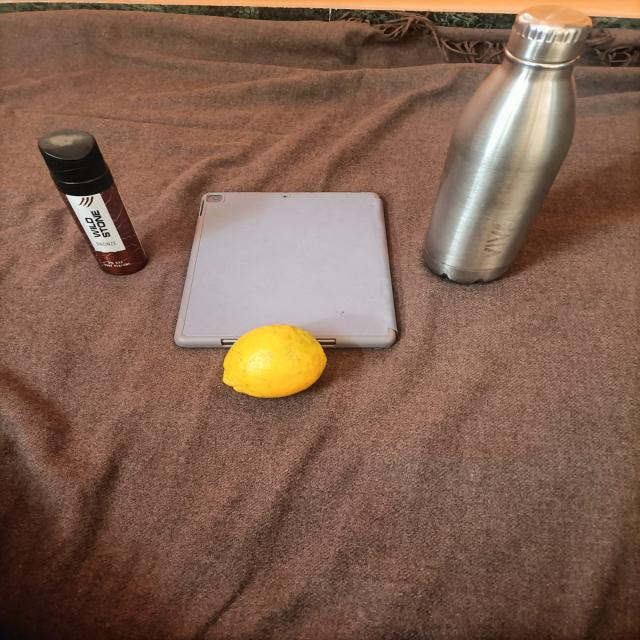bottle: (413, 5, 603, 313)
orange: (210, 319, 341, 410)
spray: (18, 117, 157, 298)
tablet: (171, 170, 405, 359)
